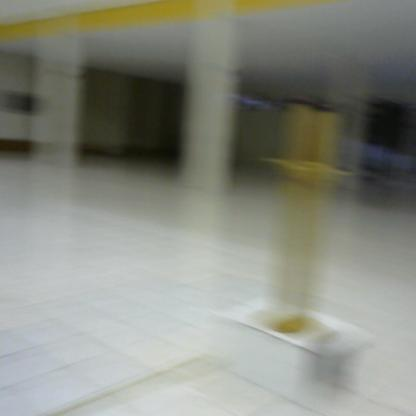pole: (274, 98, 348, 347)
